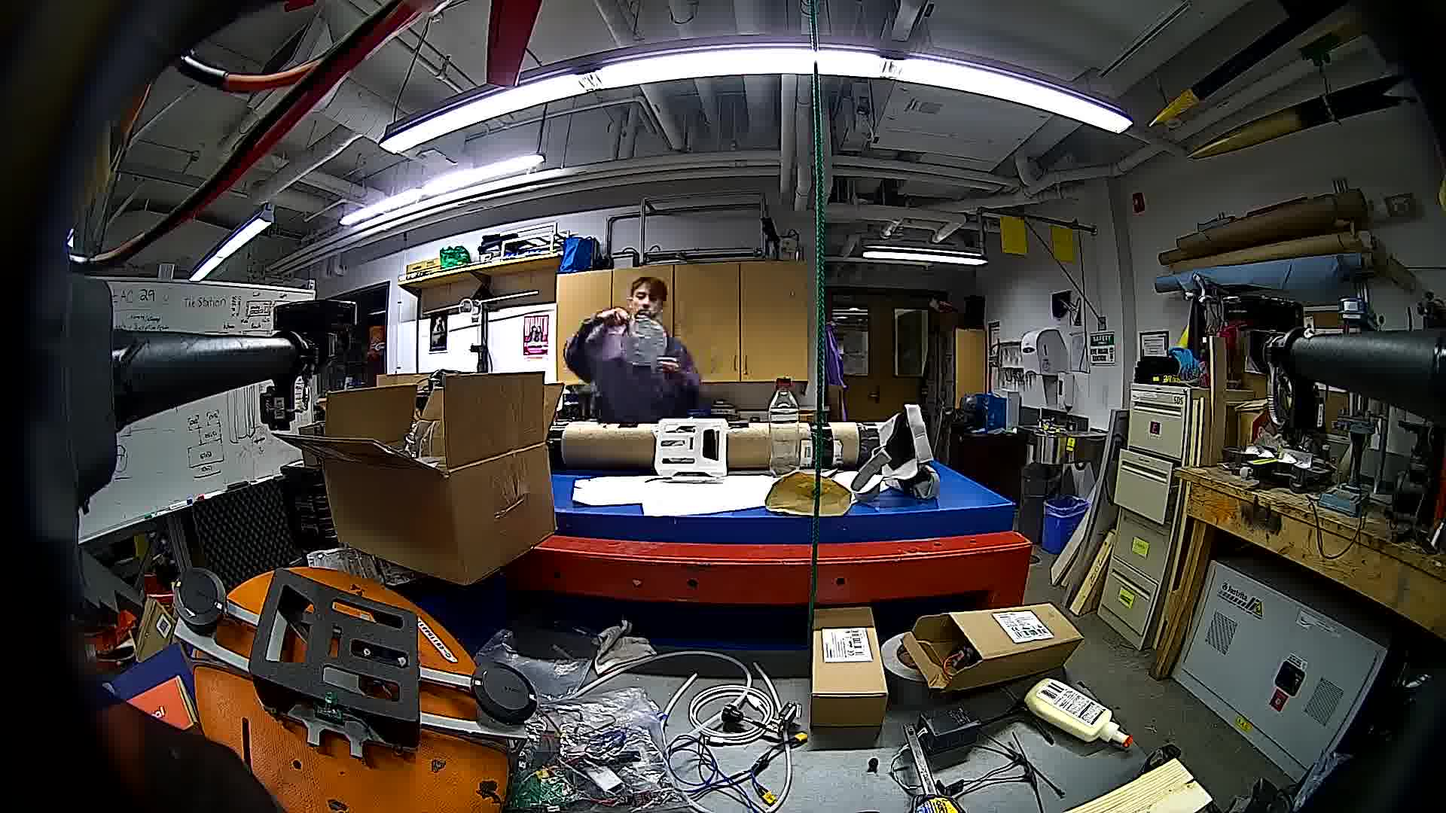Target: (618, 317, 669, 366)
